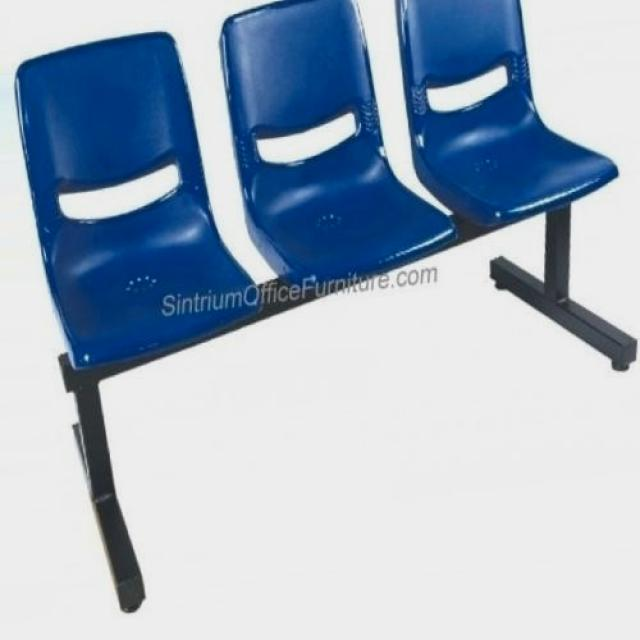Chair: (14, 2, 637, 617)
